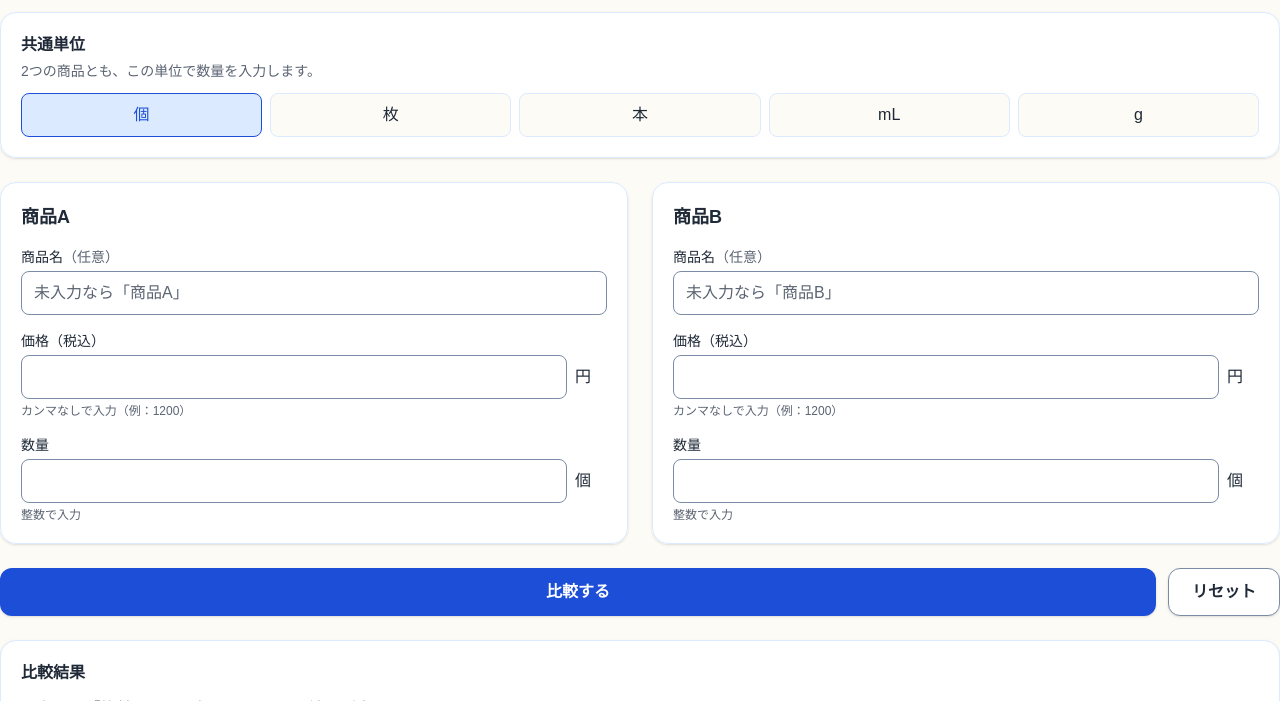
Test case: UnitPriceComparer：比較と結果表示 › 表示上は同額になる場合に案内文を出す
Type "10001" into the field labelled "価格（税込）" below "商品A" at (294, 377), box [21, 355, 567, 399]
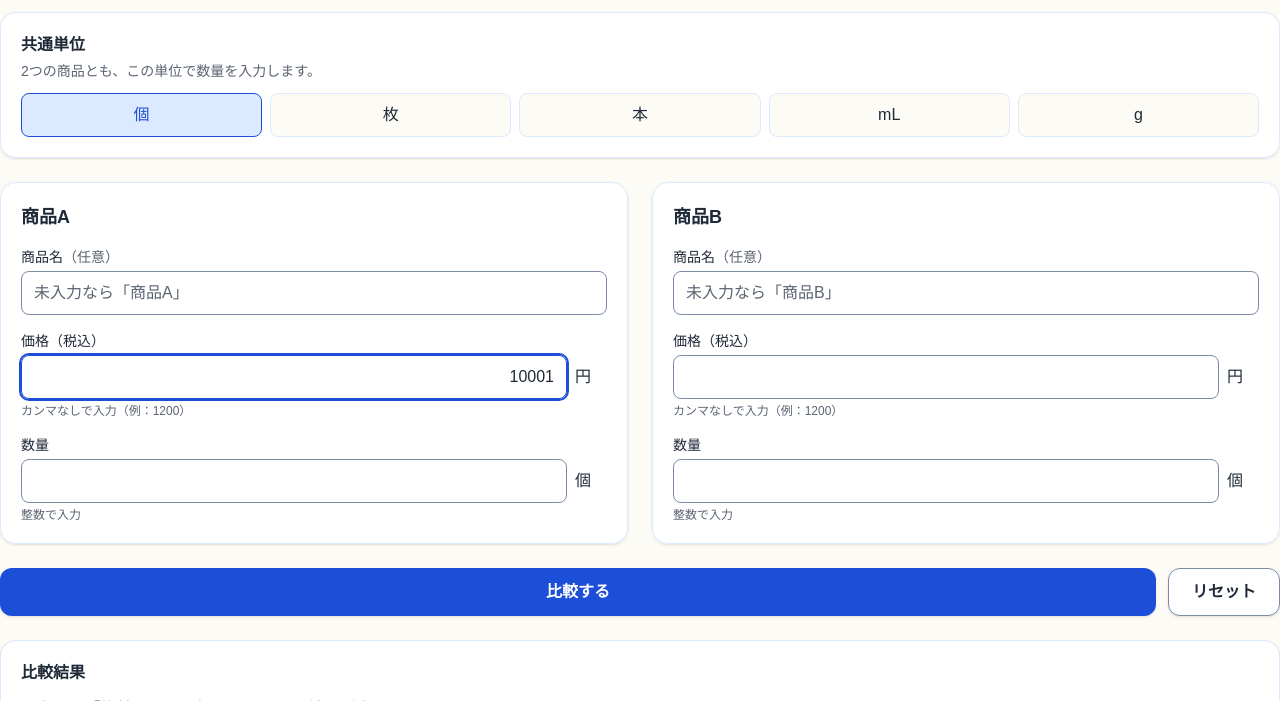
Type "3000" into the field labelled "数量" below "商品A" at (294, 481), box [21, 459, 567, 503]
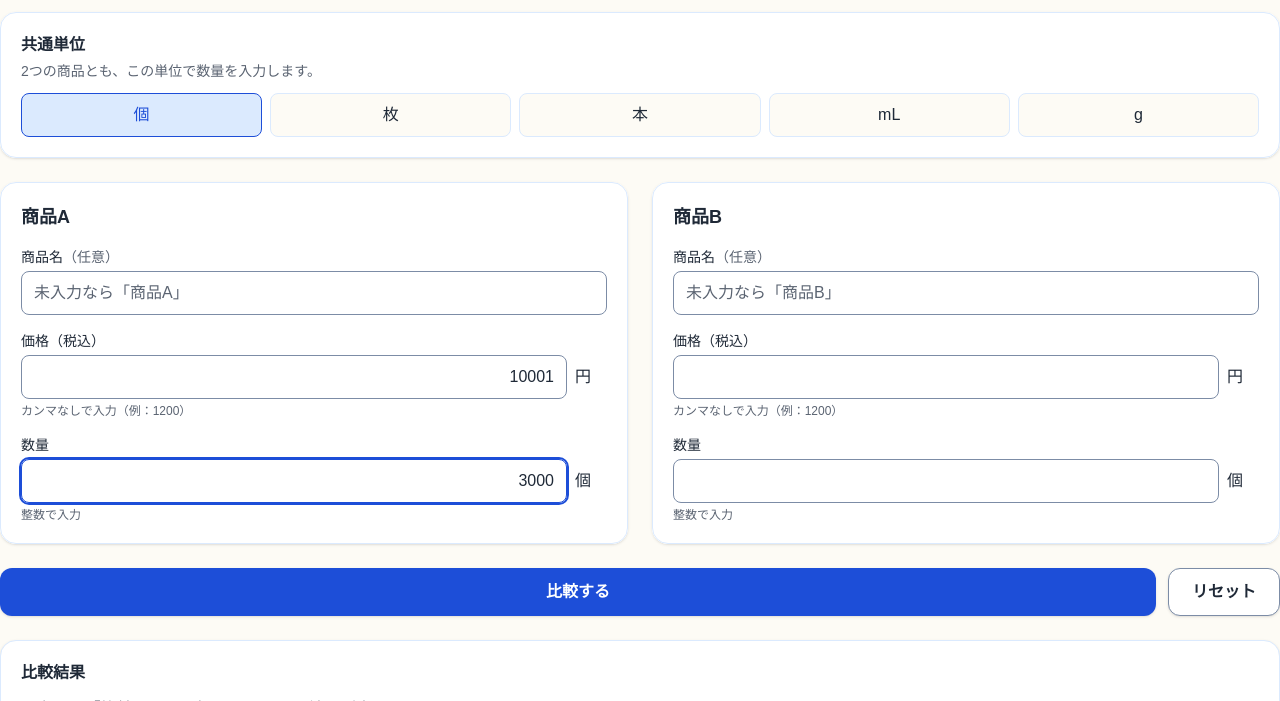
Type "10000" into the field labelled "価格（税込）" below "商品B" at (946, 377), box [673, 355, 1219, 399]
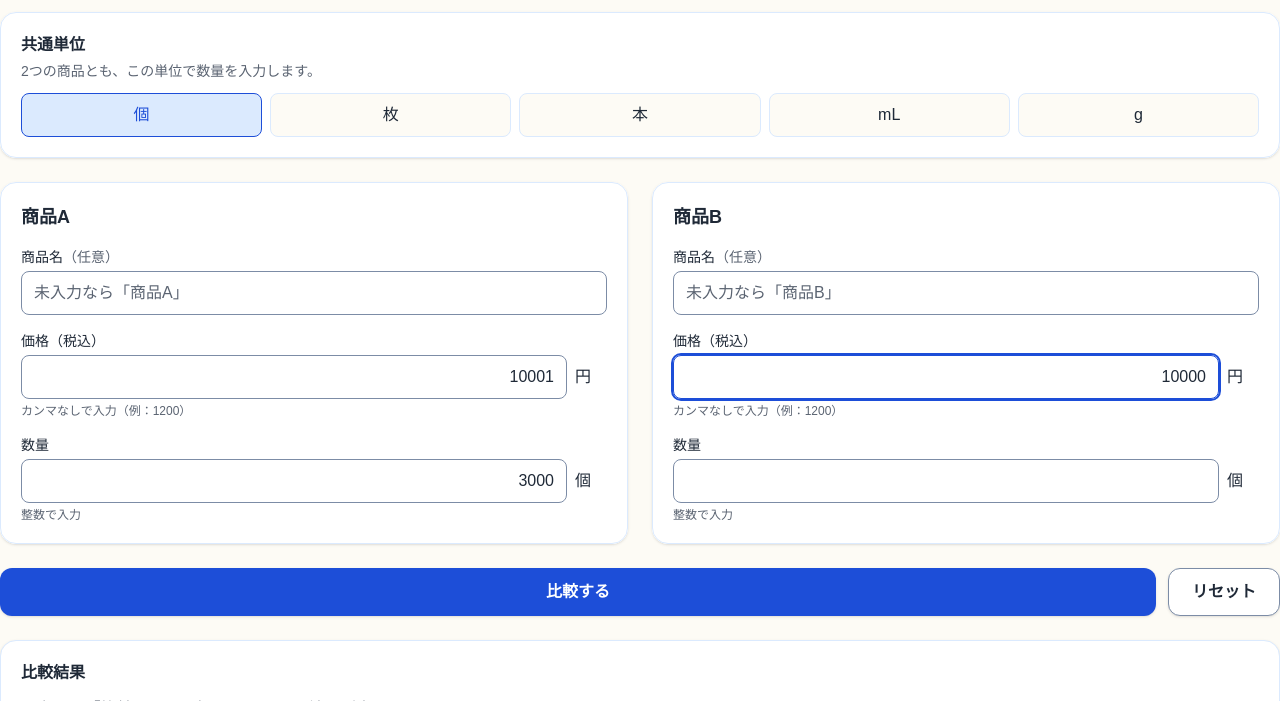
Type "3000" into the field labelled "数量" below "商品B" at (946, 481), box [673, 459, 1219, 503]
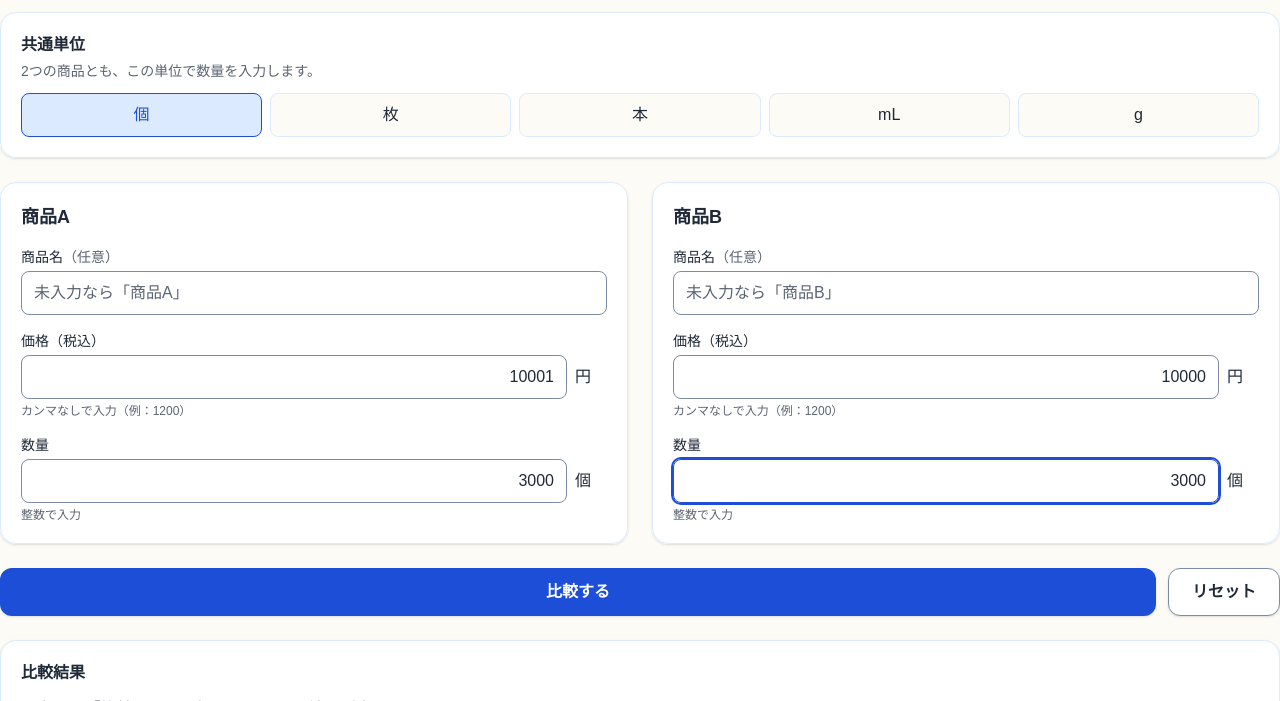
Click the button "比較する" at (578, 592), box [0, 568, 1156, 616]
(page scrolled)
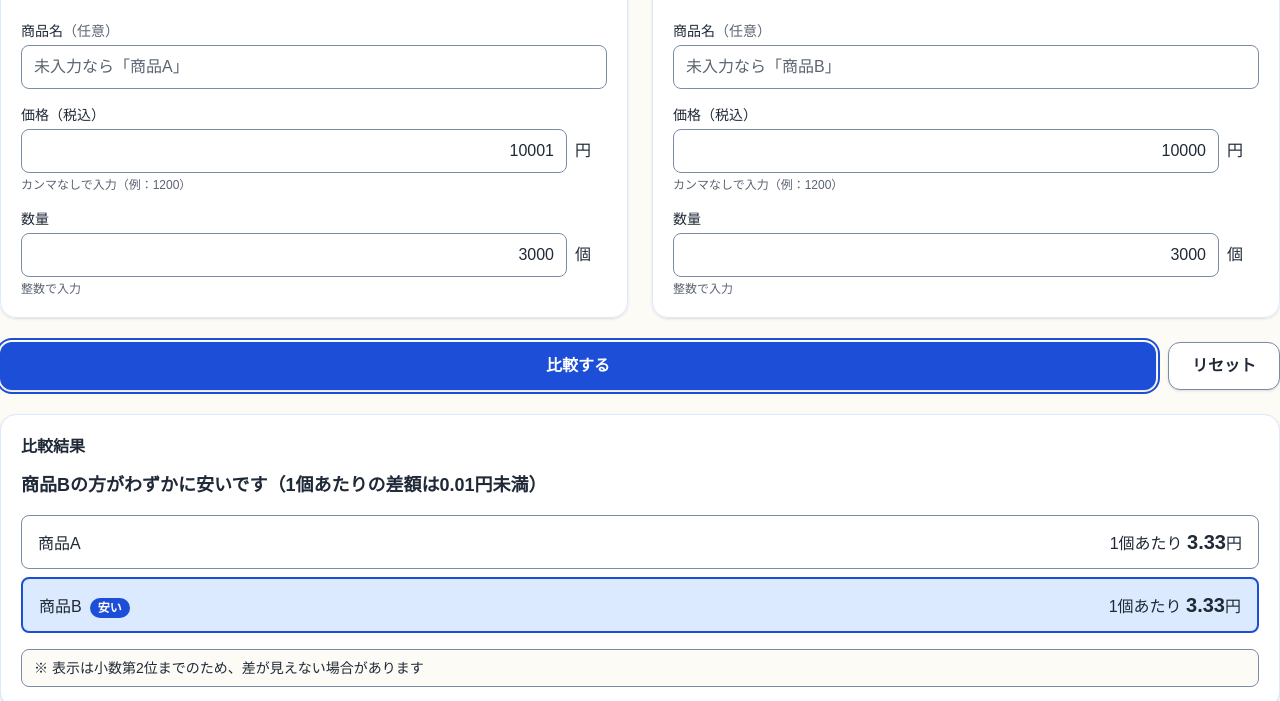
Expected: the text "※ 表示は小数第2位までのため、差が見えない場合があります" is shown, [21, 649, 1259, 687]
Expected: the text "商品Bの方がわずかに安いです（1個あたりの差額は0.01円未満）" is shown, [21, 475, 546, 495]
